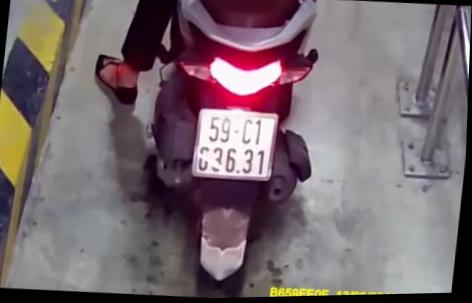LP: (192, 105, 282, 184)
